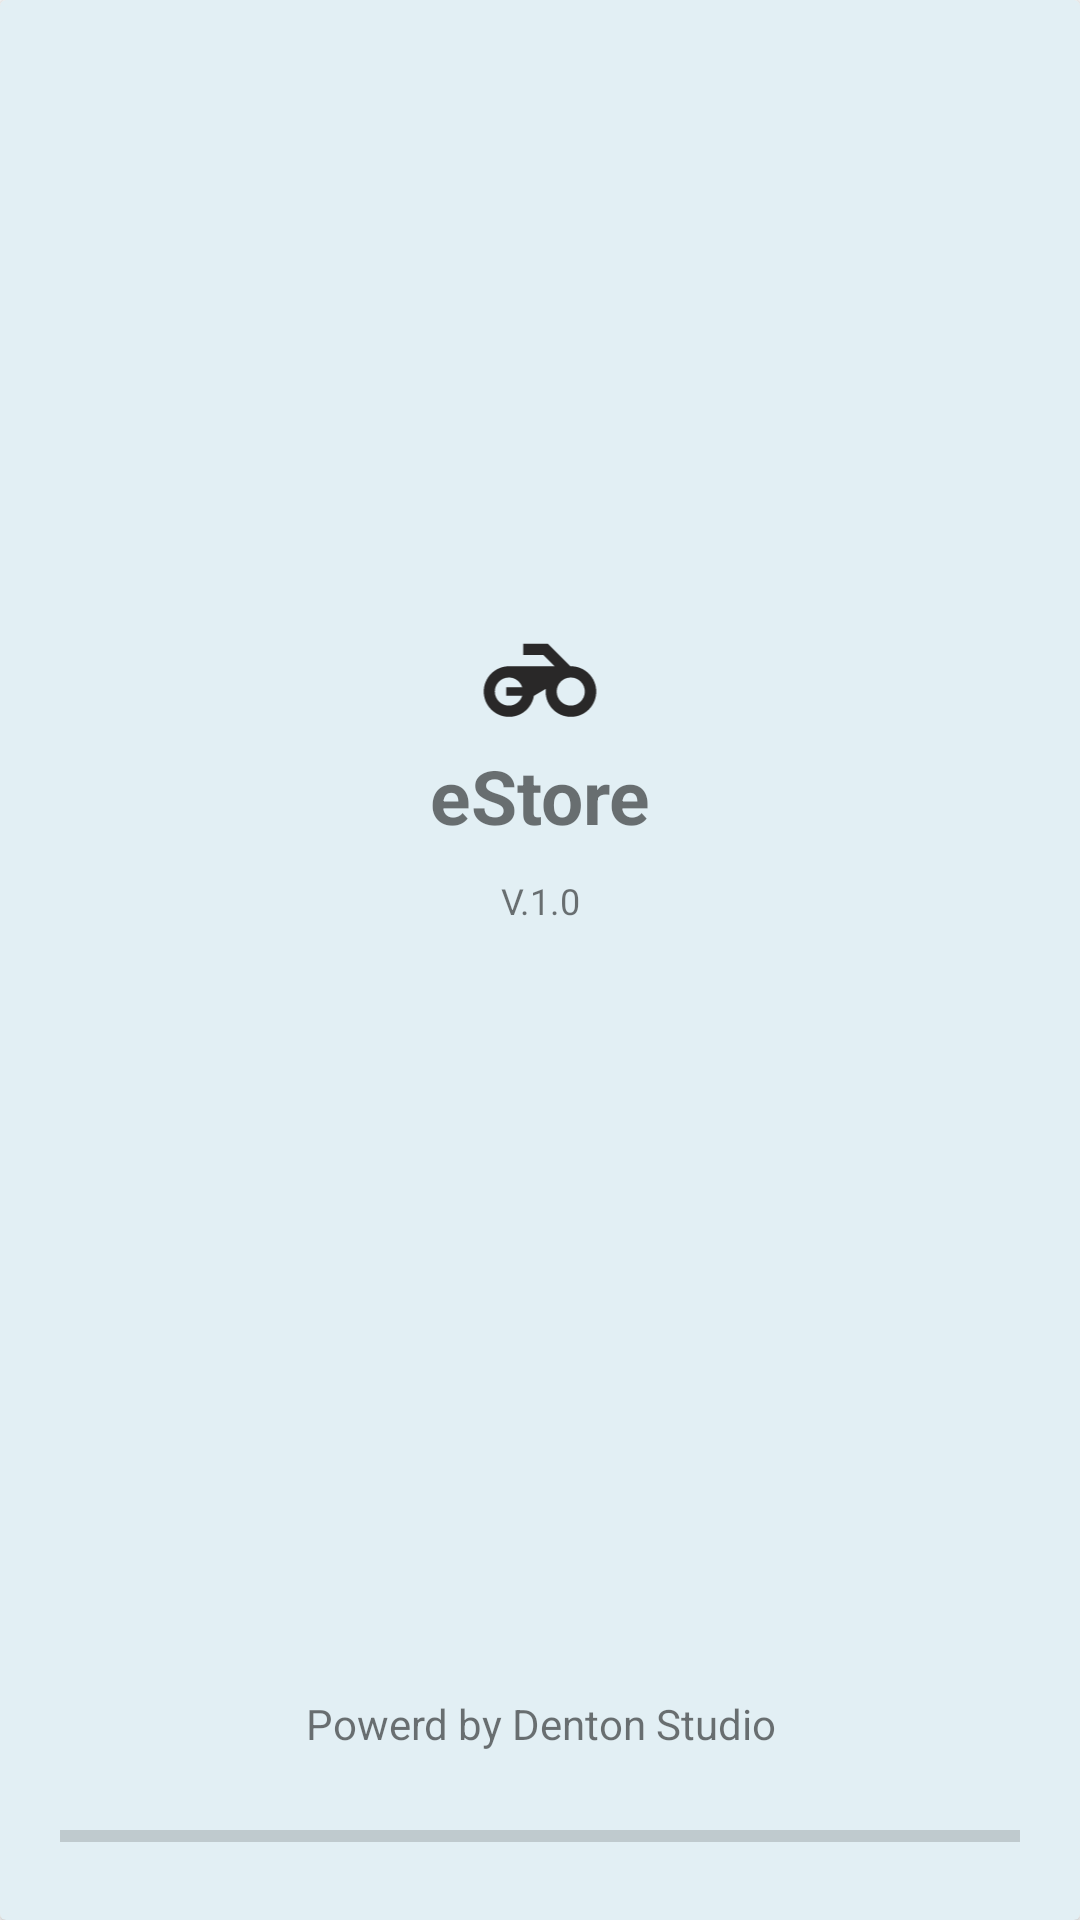

Screen size 1080x1920. Icon name, then its center in pixels as (x=x, y=y):
motorcycle: (x=540, y=680)
